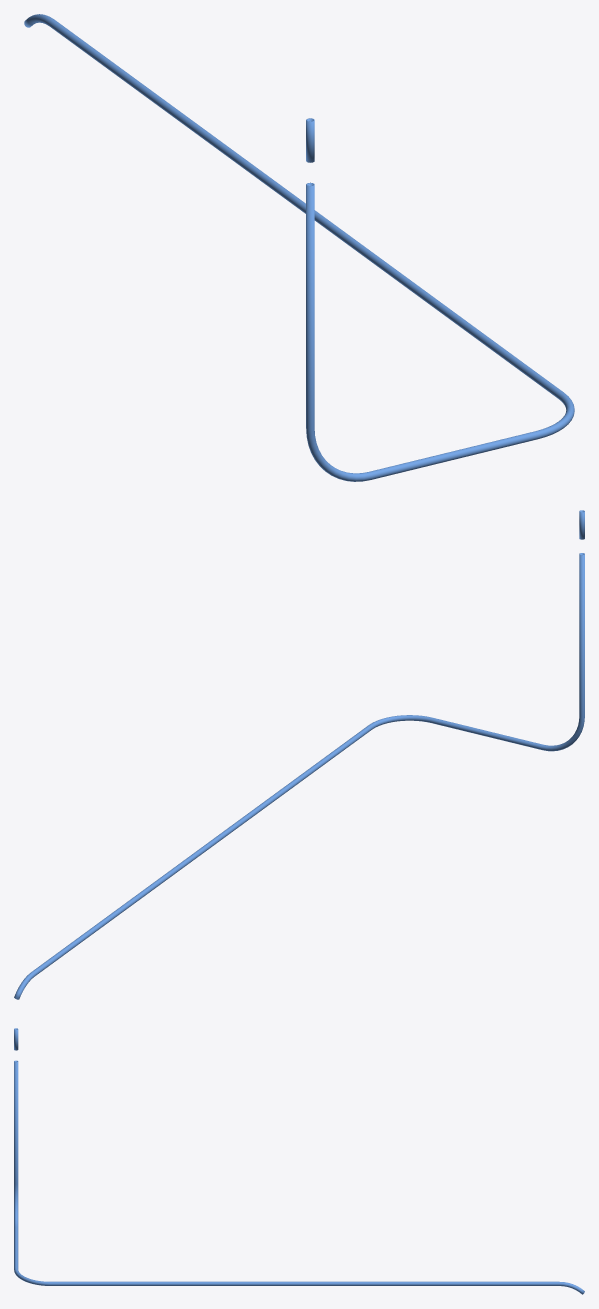
File: pipes_supply__water_heater__9301fbc9__r4y.glb
3 renders of one model, top to bottom at view 1: azimuth 30°, elevation 25°; view 2: azimuth 150°, elevation 25°; view 3: azimuth 270°, elevation 25°, orthographic. The views are drawn at different scales.
Parts seen in each view (by area): view 1: pipe_supply_cold_riser_tmv_lo__pex; view 2: pipe_supply_cold_riser_tmv_lo__pex; view 3: pipe_supply_cold_riser_tmv_lo__pex.
Boxes of the visible parts, box(x1,y1,x2,y2) form: pipe_supply_cold_riser_tmv_lo__pex: box(24, 14, 574, 481); pipe_supply_cold_riser_tmv_lo__pex: box(14, 510, 584, 999); pipe_supply_cold_riser_tmv_lo__pex: box(14, 1028, 584, 1294).
Size of the model in its own units: 0.8772 by 1.12 by 2.97.
